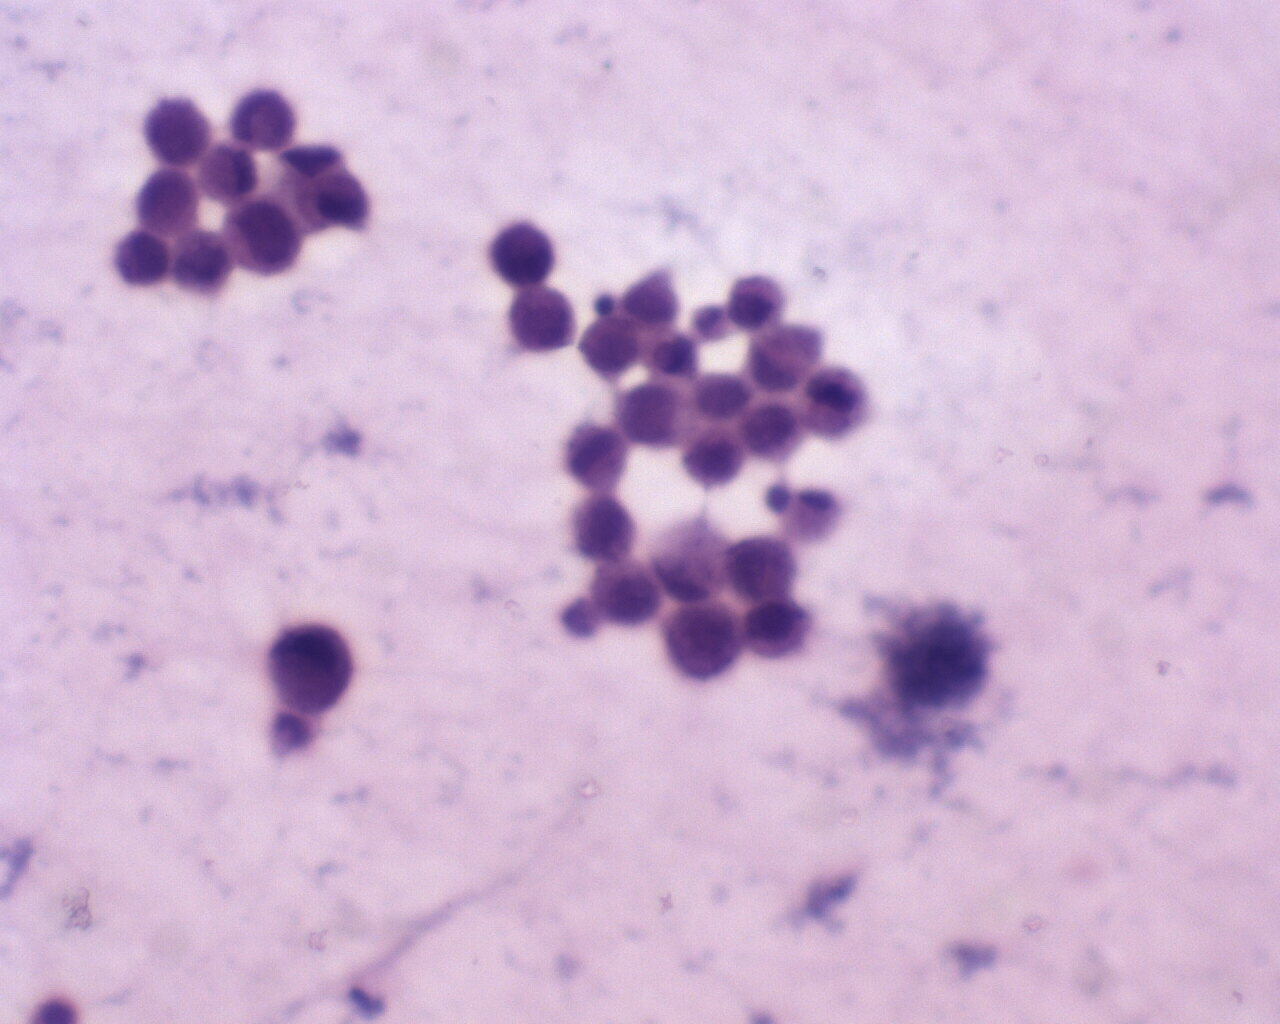ab: (264, 616, 360, 712), (659, 597, 751, 686), (223, 194, 309, 284), (797, 360, 878, 441), (614, 373, 691, 452), (293, 167, 376, 239), (556, 417, 631, 493), (727, 529, 801, 605), (138, 96, 217, 165), (566, 490, 638, 565), (732, 599, 815, 664), (228, 84, 299, 158), (580, 305, 644, 387), (485, 218, 558, 288), (508, 284, 575, 360), (169, 229, 238, 297), (739, 399, 808, 466), (683, 418, 746, 490), (138, 168, 200, 235), (726, 272, 793, 333)
